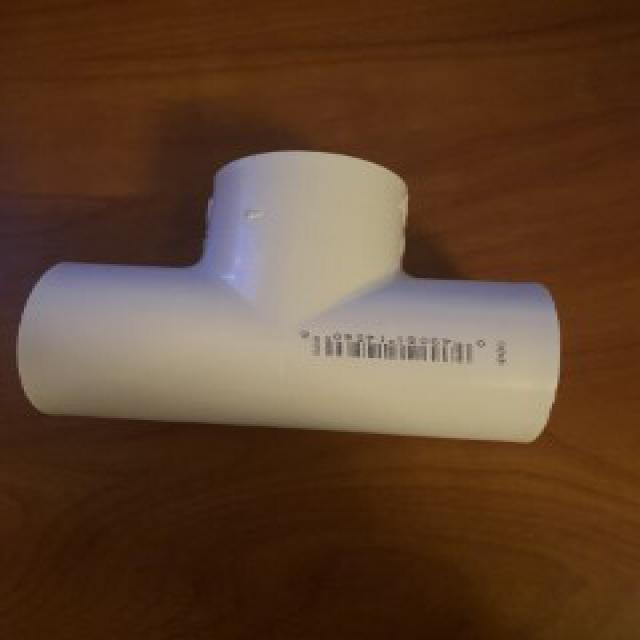T Joint: (16, 151, 561, 442)
